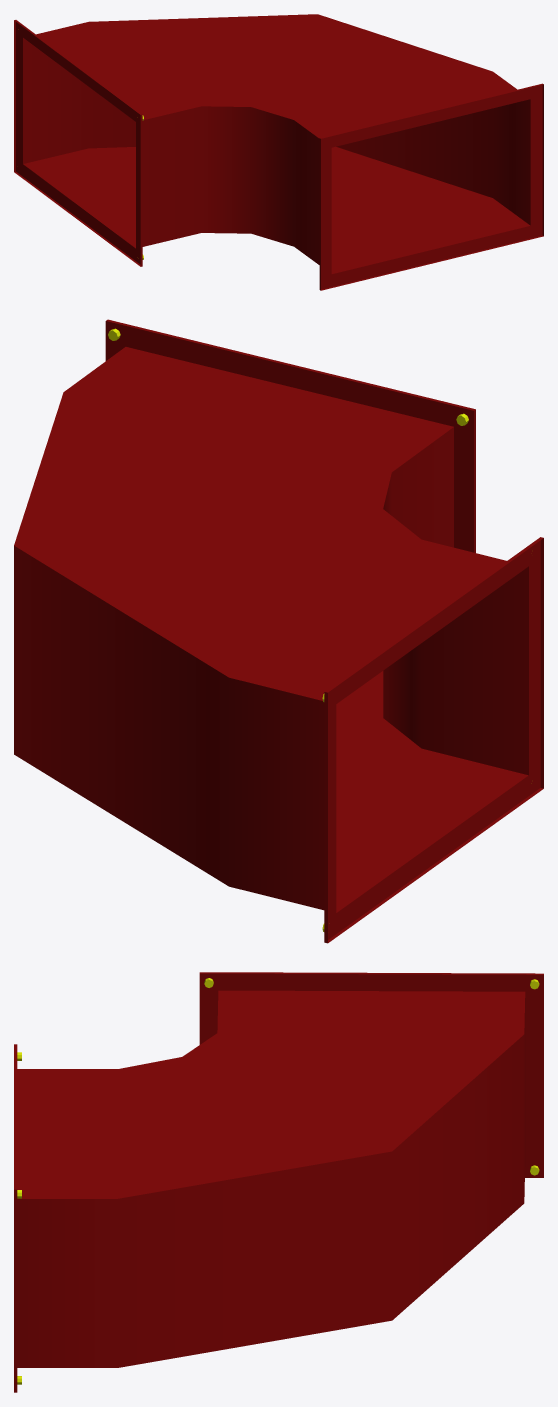
File: fbx_Pipe_3_V1.0.fbx
The picture shows the model from 3 angles, top to bottom: view 1: azimuth 30°, elevation 25°; view 2: azimuth 150°, elevation 25°; view 3: azimuth 270°, elevation 25°; orthographic projection. The views are drawn at different scales.
Visible parts, largest first — view 1: pCube161; view 2: pCube161; view 3: pCube161.
Boxes of the visible parts, box(x1,y1,x2,y2) form: pCube161: box(14, 14, 543, 290); pCube161: box(14, 319, 543, 943); pCube161: box(14, 972, 543, 1392).
Bounding box in the file's own units: 221 × 96 × 227.
